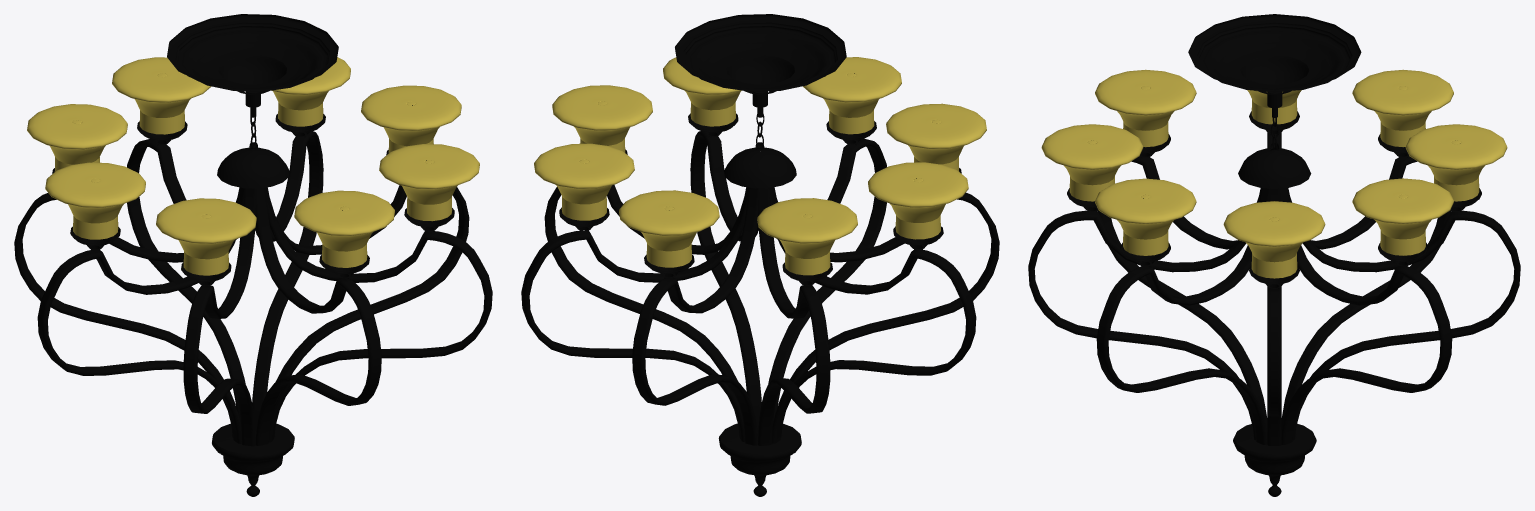
File: chandelier.glb
The picture shows the model from 3 angles, left to right: view 1: azimuth 30°, elevation 25°; view 2: azimuth 150°, elevation 25°; view 3: azimuth 270°, elevation 25°; orthographic projection.
Parts seen in each view (by area): view 1: Loft001 (×8), Line006 (×8), Line001, Line021, Line003; view 2: Loft001 (×8), Line006 (×8), Line001, Line021, Line003; view 3: Line006 (×8), Loft001 (×7), Line001, Line021, Line003.
Part boxes in pixels (box(x1,y1,x2,y2)): Loft001 (×8): box(14, 131, 492, 446); Line006 (×8): box(27, 57, 479, 275); Line001: box(167, 14, 338, 94); Line021: box(212, 423, 294, 496); Line003: box(217, 147, 289, 188); Loft001 (×8): box(521, 131, 999, 445); Line006 (×8): box(534, 57, 986, 275); Line001: box(675, 14, 846, 94); Line021: box(718, 423, 801, 496); Line003: box(724, 147, 796, 188); Line006 (×8): box(1041, 69, 1507, 278); Loft001 (×7): box(1028, 156, 1520, 445); Line001: box(1188, 14, 1361, 94); Line021: box(1233, 423, 1316, 496); Line003: box(1238, 148, 1311, 188).
Size of the model in its own units: 2.95 by 2.95 by 2.95.
